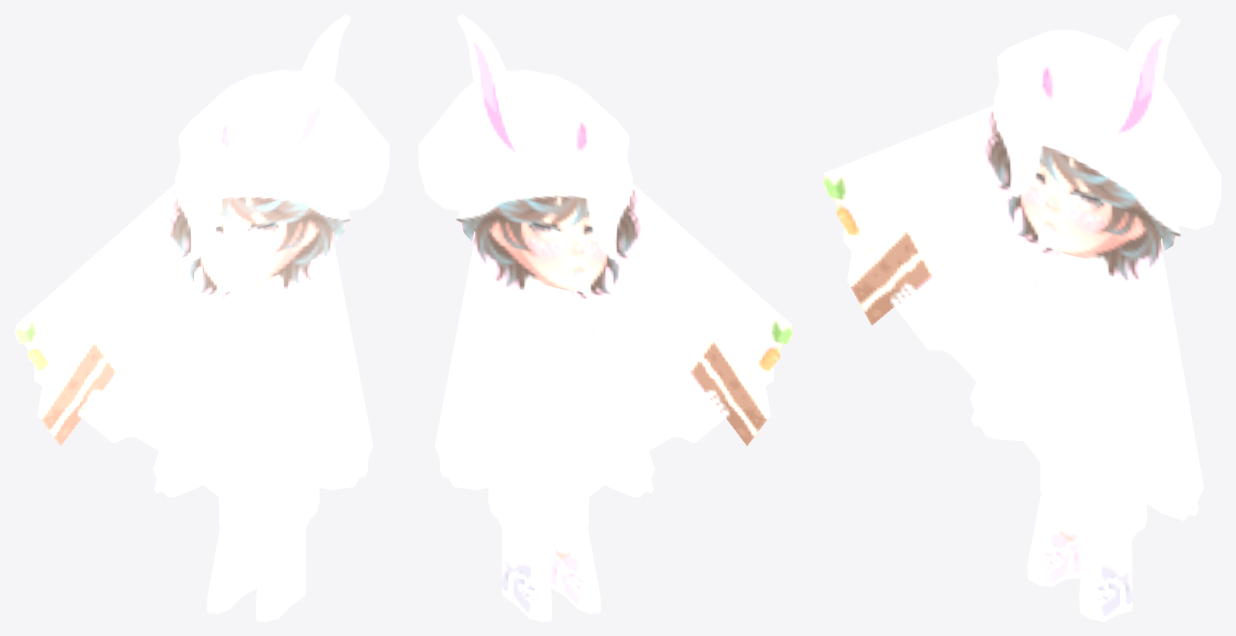
The model's file is cutepack2023chef.fbx.
The picture shows the model from 3 angles, left to right: view 1: azimuth 30°, elevation 25°; view 2: azimuth 150°, elevation 25°; view 3: azimuth 330°, elevation 25°; orthographic projection. The views are drawn at different scales.
Visible parts, largest first — view 1: Plane.012; view 2: Plane.012; view 3: Plane.012.
Part boxes in pixels (box(x1,y1,x2,y2)): Plane.012: box(14, 14, 389, 621); Plane.012: box(418, 14, 793, 621); Plane.012: box(822, 14, 1221, 621).
Bounding box in the file's own units: 184 × 276 × 3.71e-05.
